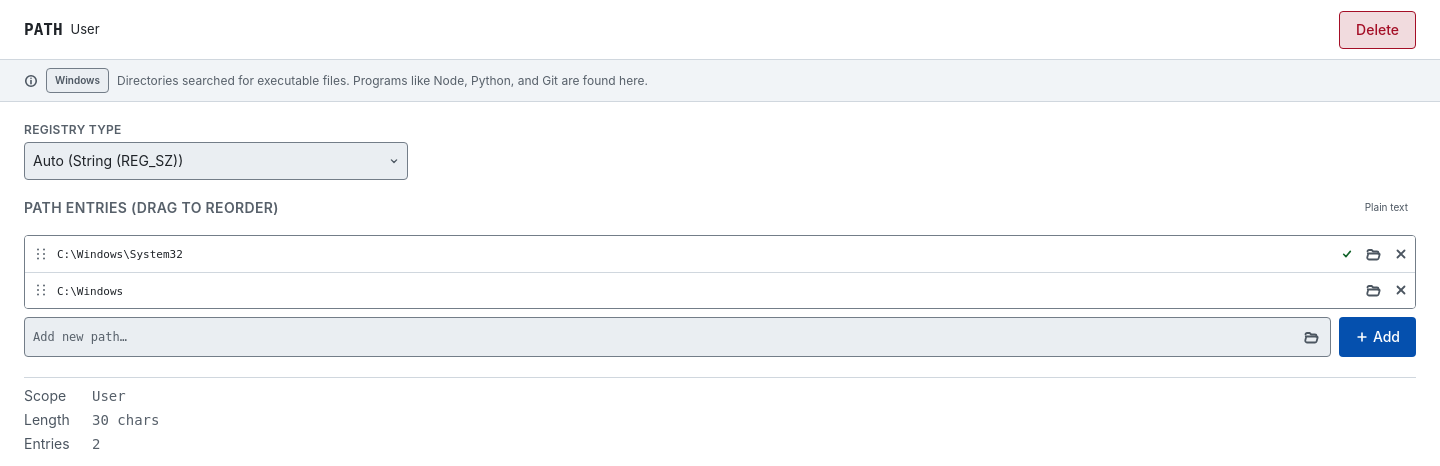
DetailPanel › switches a list variable back to plain text editing
Check: the text "Path entries (drag to reorder)" is shown, box [24, 198, 279, 218]
Click the button "Plain text" at (1386, 208), box [1357, 196, 1416, 219]
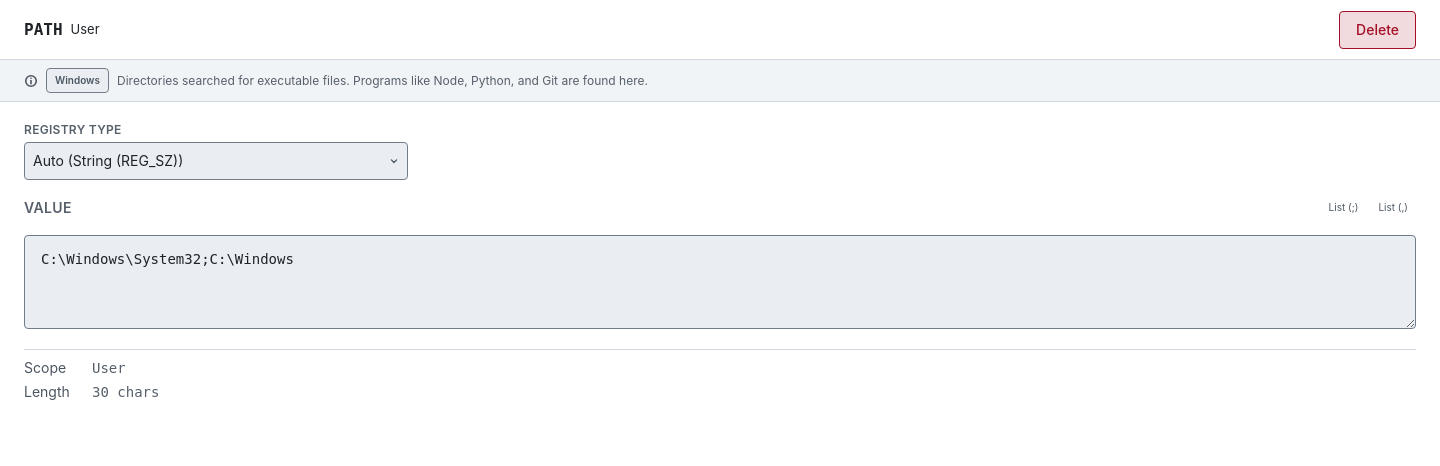
Check: the text box named "value" holds "C:\\Windows\\System32;C:\\Windows", box [24, 235, 1416, 329]
Check: the text "drag to reorder" is gone
